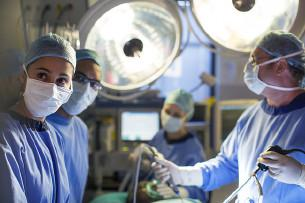OK: (24, 65, 75, 116), (245, 52, 286, 98), (60, 73, 102, 115), (162, 107, 186, 135)
